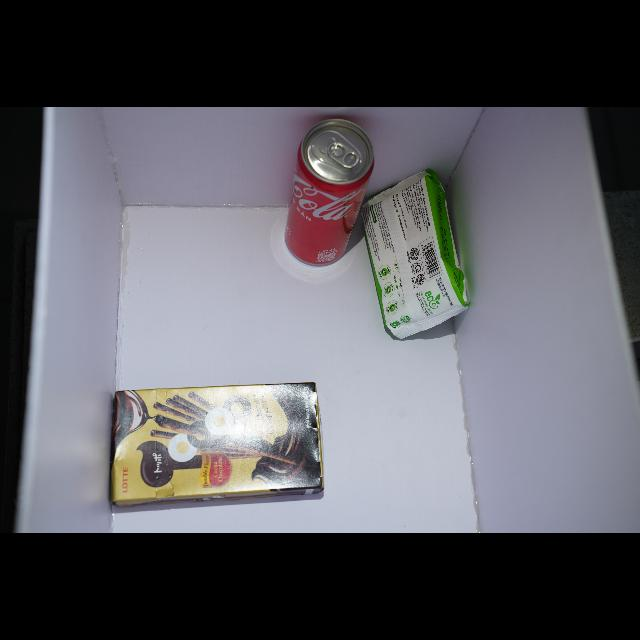banh_toppo_socola: (111, 383, 324, 507)
coca_cola: (284, 119, 374, 267)
khan_giay: (362, 171, 469, 338)
